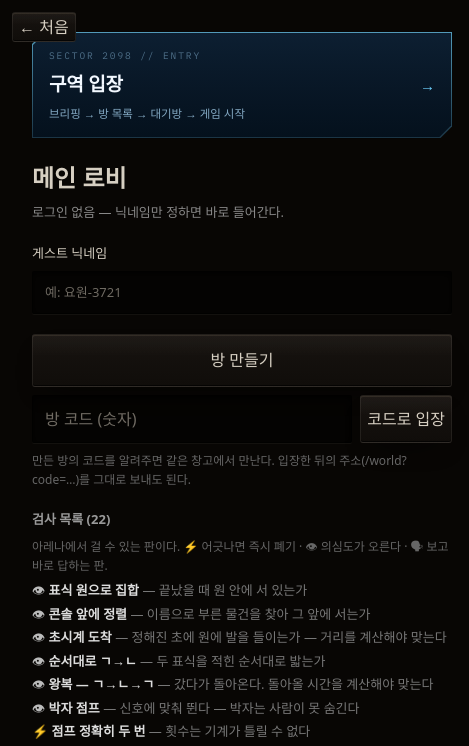
Test: 메인 로비 — 로그인 없이 입장 › 닉네임 없이 방 만들기를 누르면 막는다
Click the button "방 만들기": click(242, 360) [32,334,452,387]
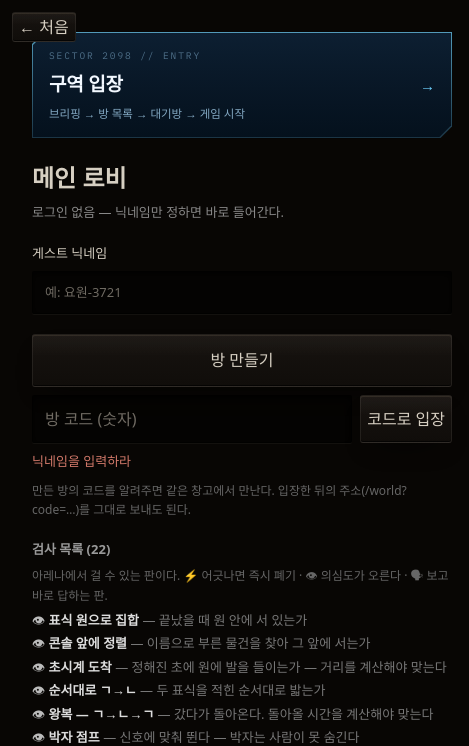
Now the text "닉네임을 입력하라" is shown, box [32,452,131,470]
